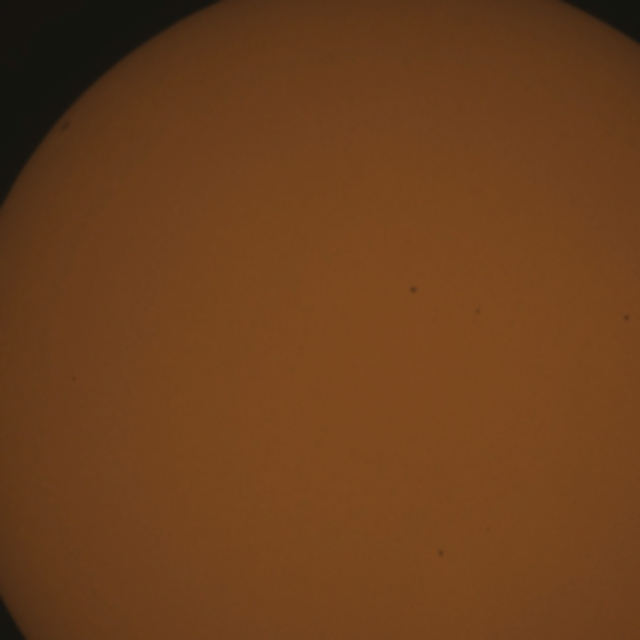sunspot: (407, 284, 419, 296), (69, 373, 78, 384), (436, 548, 445, 559), (474, 306, 482, 318), (622, 313, 631, 323)
